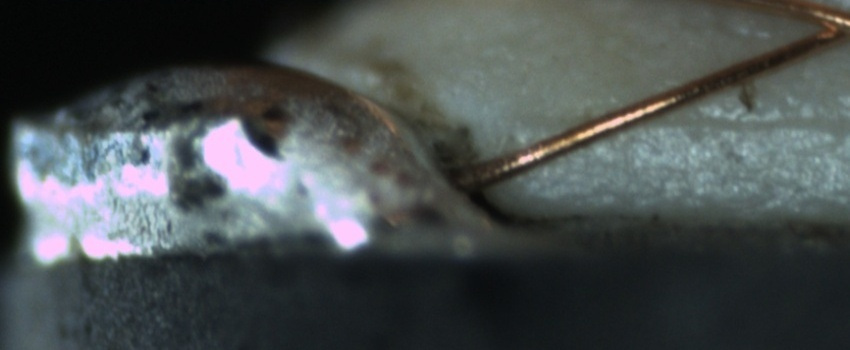CL: (792, 4, 850, 54)
DL: (533, 88, 850, 153)
